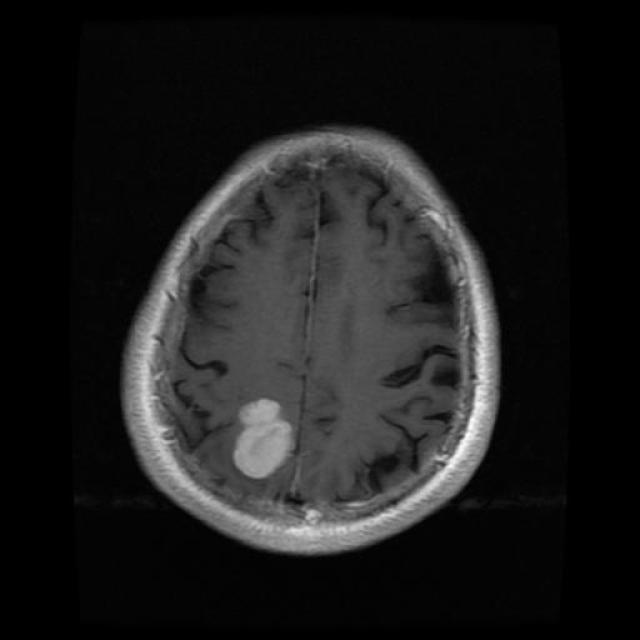Tumor: (231, 398, 304, 480)
